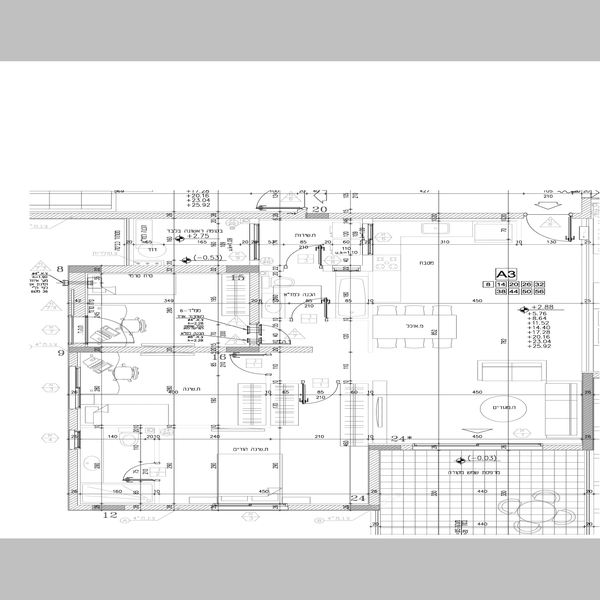door: (527, 213, 580, 253), (297, 381, 346, 414), (232, 350, 274, 381), (282, 242, 317, 272), (256, 317, 293, 345), (297, 290, 329, 321), (122, 464, 168, 484), (250, 192, 280, 214)
room: (57, 344, 383, 513), (55, 263, 269, 351)
window: (209, 500, 287, 514), (66, 366, 84, 412), (67, 426, 88, 451)
